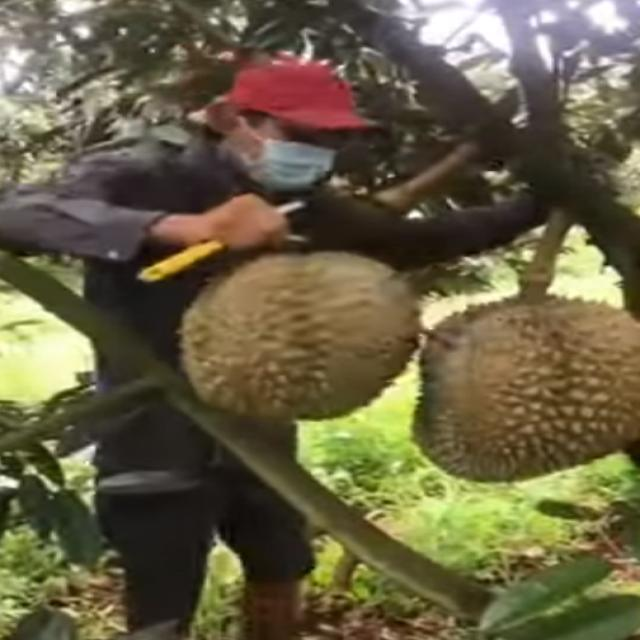mature: (410, 288, 640, 484), (171, 246, 427, 420)
